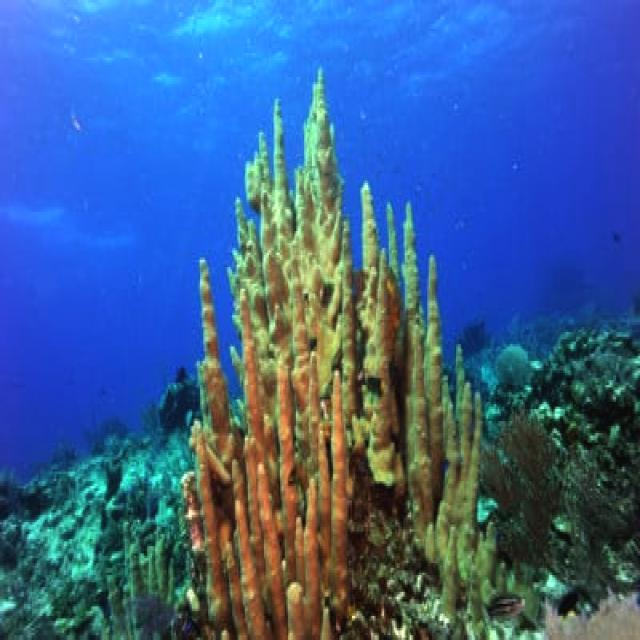Coral: (179, 66, 506, 640), (538, 587, 638, 640)
